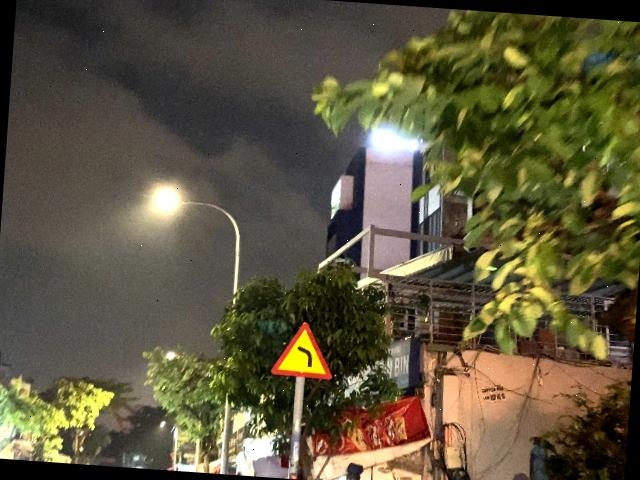cho-ngoat-nguy-hiem-ben-trai: (270, 319, 336, 380)
